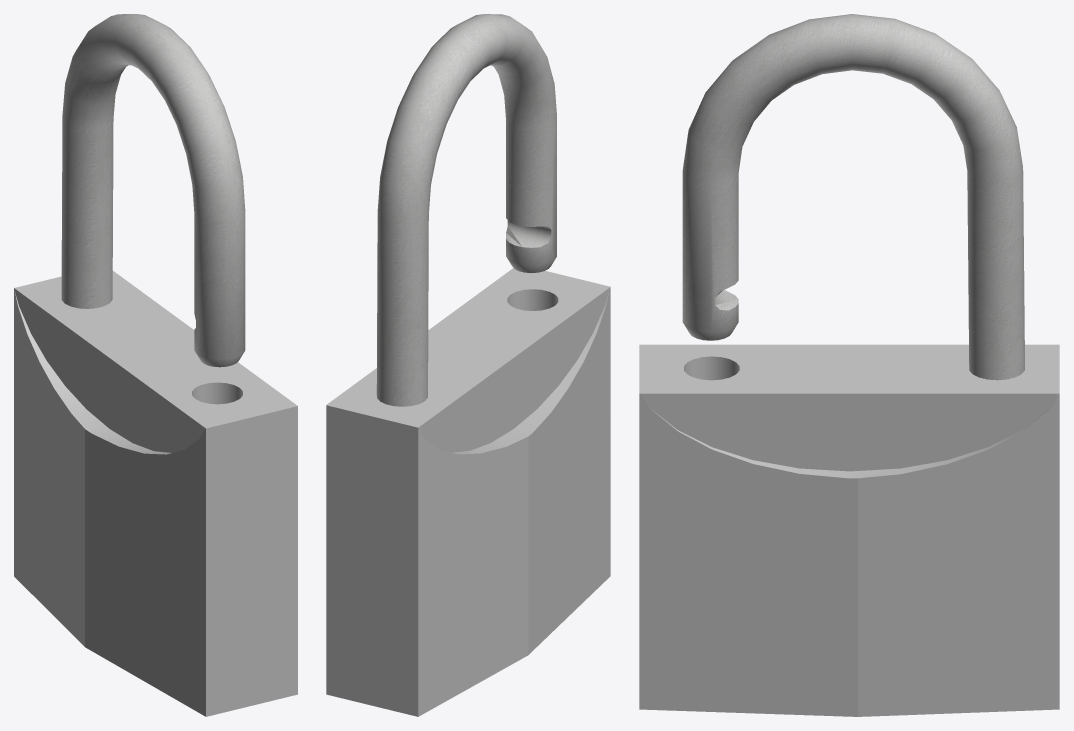
File: Padlock.FBX
3 renders of one model, left to right at view 1: azimuth 30°, elevation 25°; view 2: azimuth 150°, elevation 25°; view 3: azimuth 270°, elevation 25°, orthographic. The views are drawn at different scales.
Visible parts, largest first — view 1: mesh2, mesh1; view 2: mesh2, mesh1; view 3: mesh2, mesh1.
Part boxes in pixels (x1=…): mesh2: x1=14, y1=270, x2=297, y2=716; mesh1: x1=61, y1=14, x2=245, y2=367; mesh2: x1=326, y1=268, x2=610, y2=716; mesh1: x1=376, y1=14, x2=556, y2=406; mesh2: x1=639, y1=344, x2=1059, y2=716; mesh1: x1=682, y1=14, x2=1024, y2=380.
Size of the model in its own units: 19.73 by 52.46 by 91.95.
